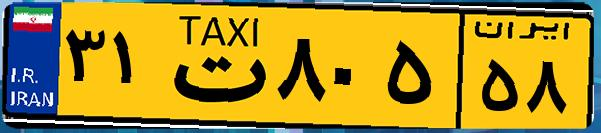0: (330, 28, 385, 110)
1: (110, 28, 158, 98)
3: (57, 26, 110, 100)
5: (385, 28, 445, 110), (475, 38, 525, 113)
8: (270, 28, 330, 110), (525, 38, 570, 115)
ت: (158, 12, 270, 120)
